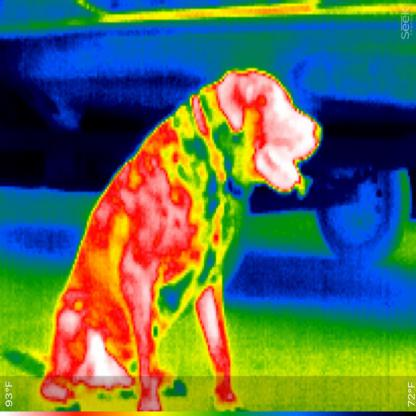dog: (39, 64, 323, 409)
